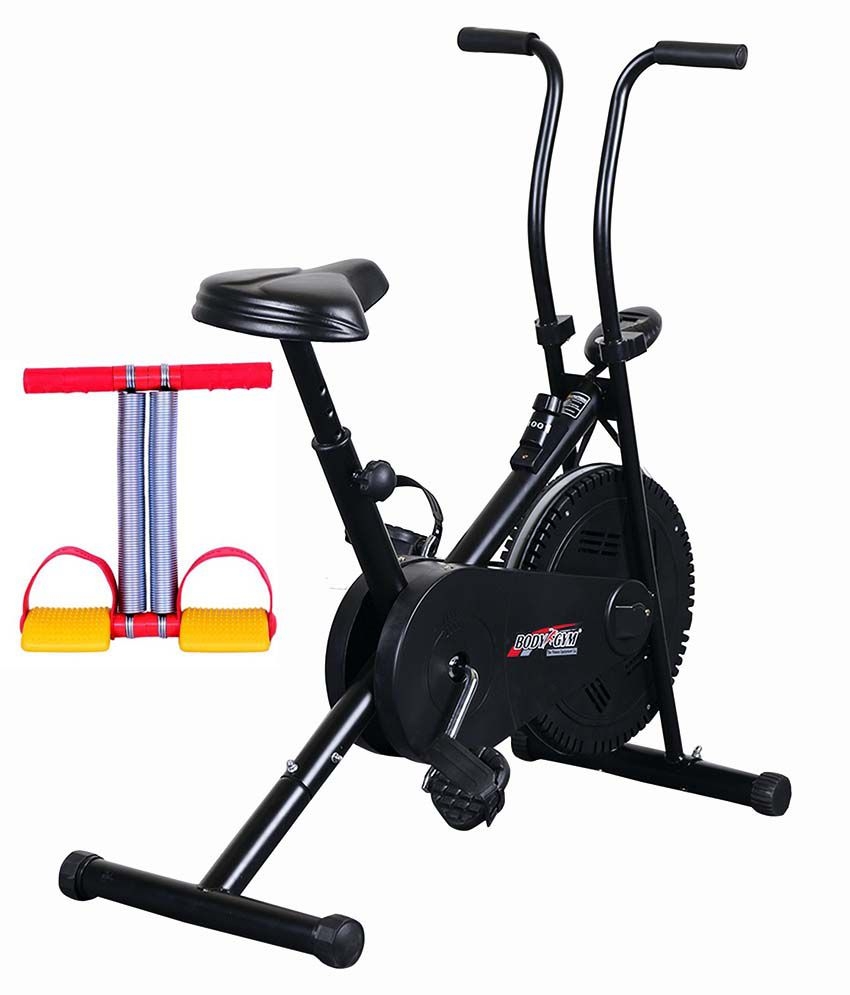gym_bike: (55, 16, 831, 958)
